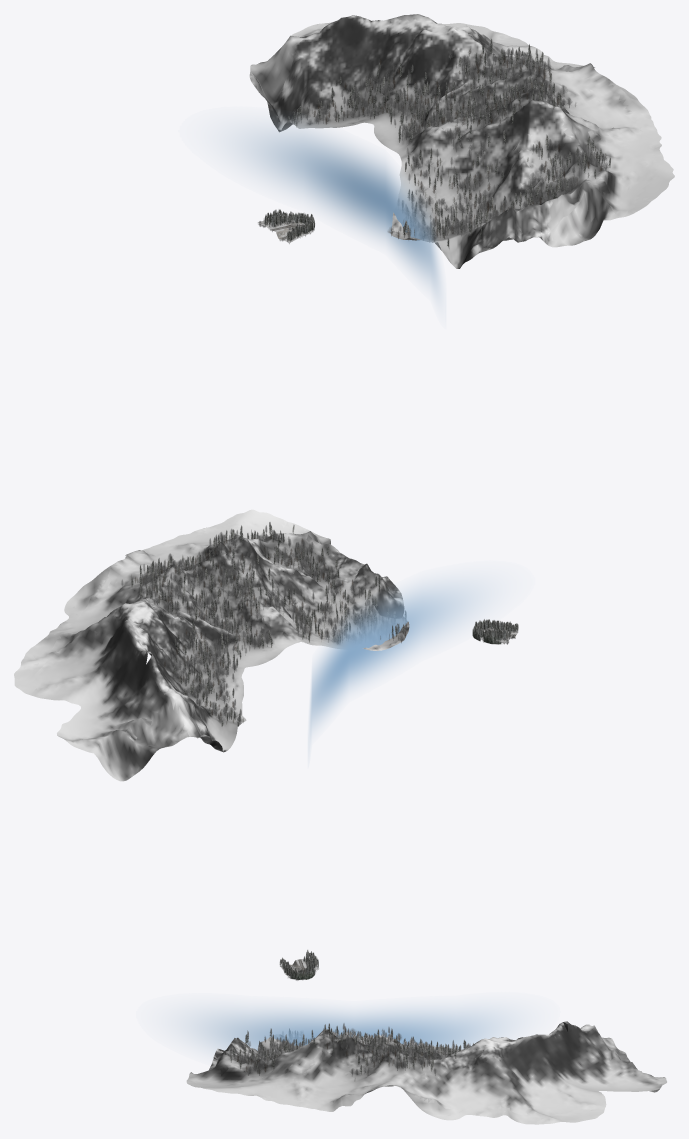
File: festival-mountains.glb
The picture shows the model from 3 angles, top to bottom: view 1: azimuth 30°, elevation 25°; view 2: azimuth 150°, elevation 25°; view 3: azimuth 270°, elevation 25°; orthographic projection. The views are drawn at different scales.
Parts seen in each view (by area): view 1: Festival_mountains; view 2: Festival_mountains; view 3: Festival_mountains.
Part boxes in pixels (x1=…): Festival_mountains: x1=229, y1=14, x2=674, y2=301; Festival_mountains: x1=14, y1=509, x2=518, y2=781; Festival_mountains: x1=179, y1=950, x2=666, y2=1124.
Bounding box in the file's own units: 93.97 × 33.95 × 150.
Materials: 12 (12 with a texture image).
